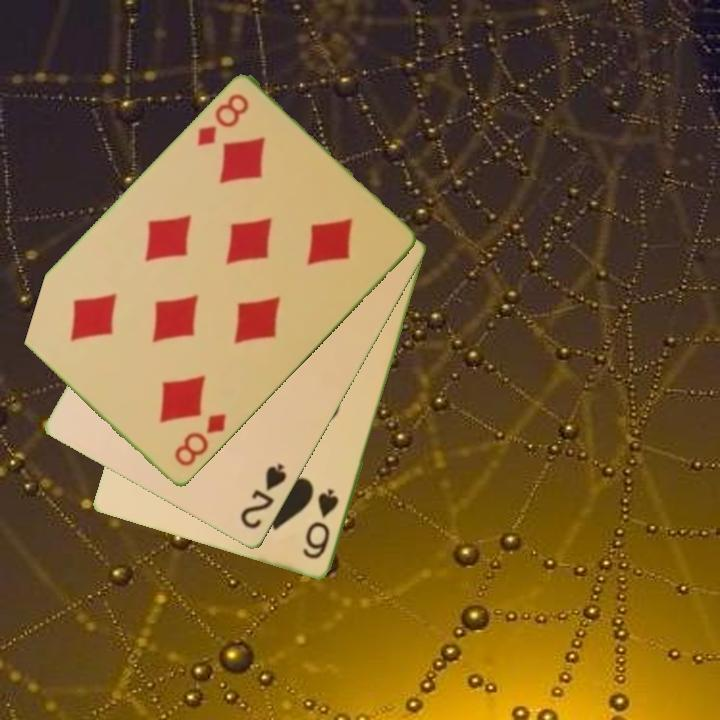2s: (236, 460, 290, 533)
6s: (299, 486, 342, 563)
8d: (170, 410, 230, 471), (193, 90, 252, 150)
